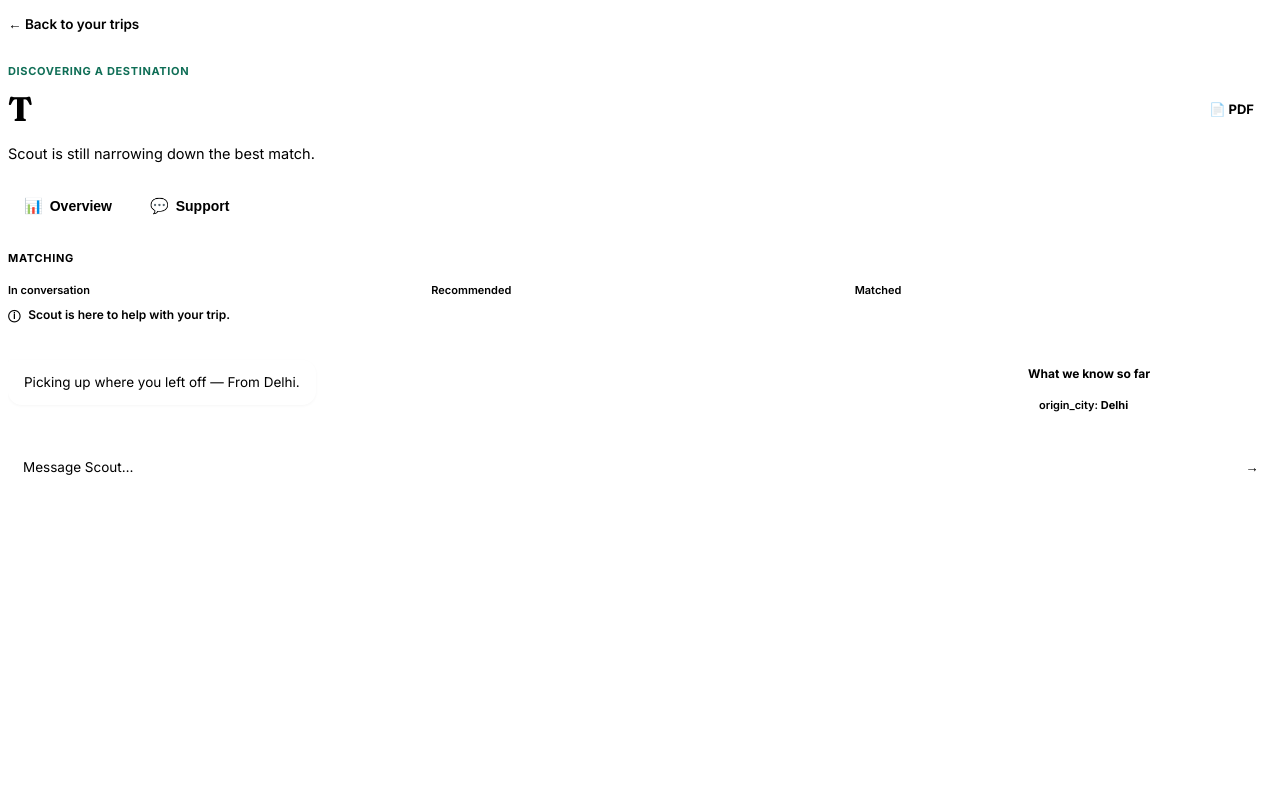
Test case: Trip Dashboard (TripView + enriched itinerary) › shows the tab bar in the pre-plan state with Itinerary hidden until planning starts, Support always accessible
Check: the button "📊 Overview" is shown, box [8,185,128,227]
Click the button "💬 Support" at (190, 206), box [134,185,245,227]
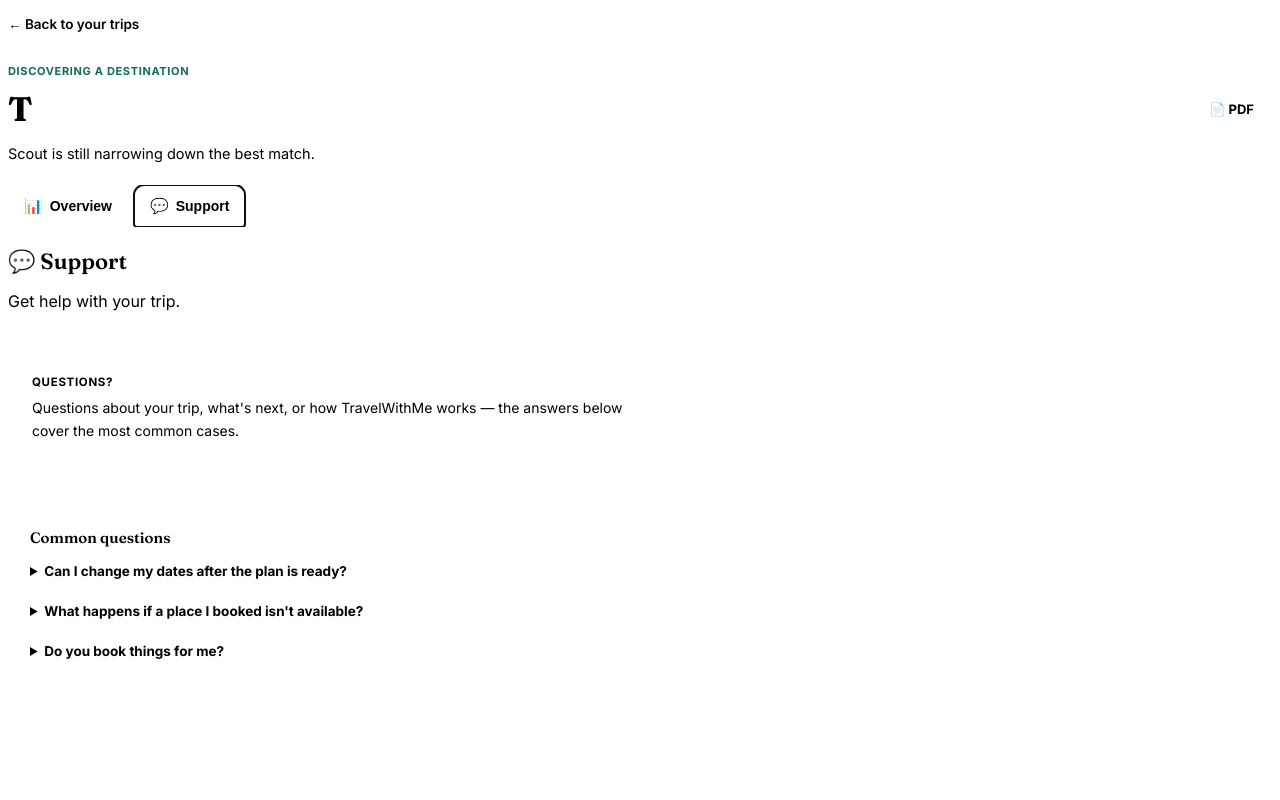
Check: the element named "Frequently asked questions" is shown, box [30,528,363,659]
